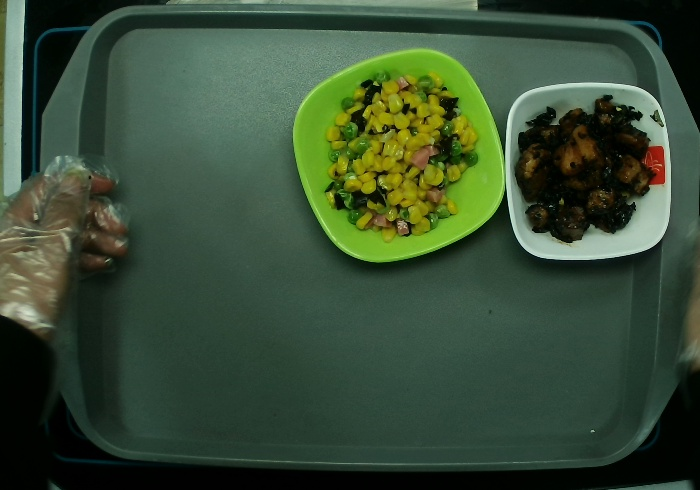SHKJ-Bai_Se_Xiao_Fang_Die: (505, 81, 674, 263)
SHKJ-Lv_Se_Cai_Die: (292, 47, 507, 264)
